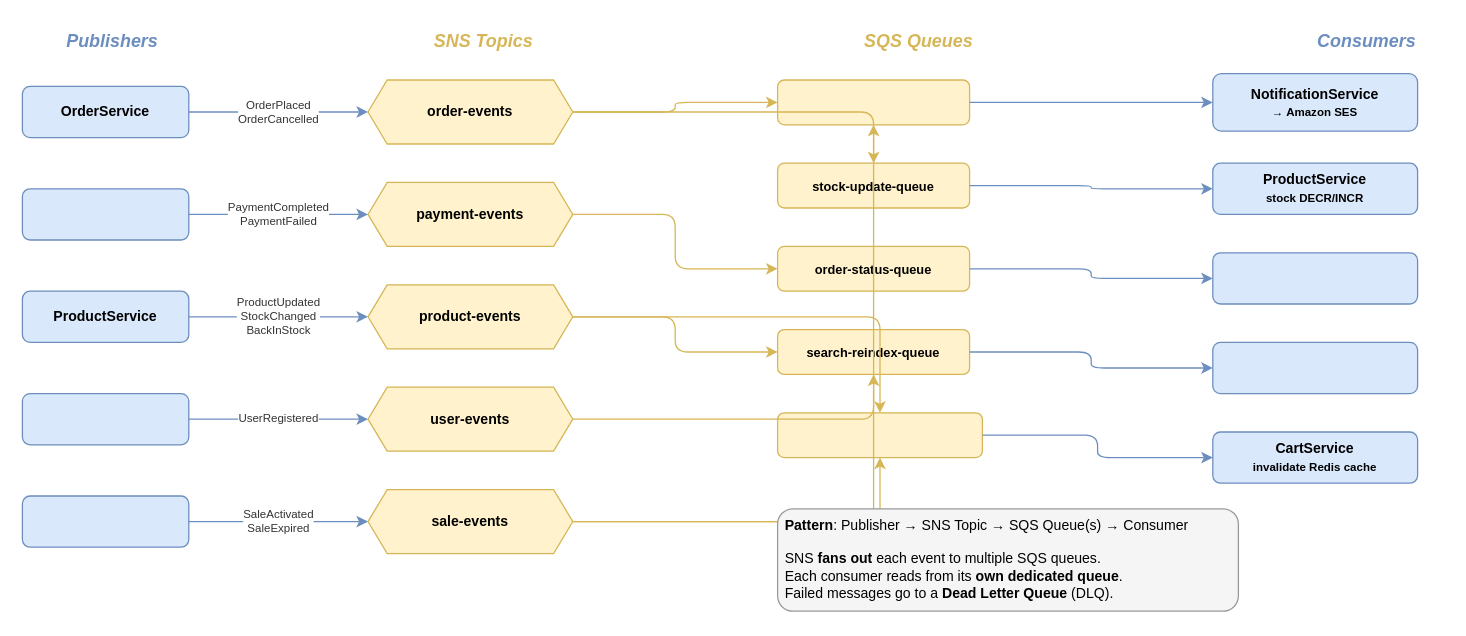
Some shapes in this 1466 by 636 pixel diagram are drawn without their labels. The shapes that lost their labels are listed below. From the top down, each one's centre as x and y in pixels, then its label:
point (873, 102): notification-queue
point (105, 214): PaymentService
point (1315, 278): OrderService status update
point (1315, 367): SearchService reindex OpenSearch
point (105, 418): UserService
point (879, 435): cache-invalidation-queue
point (105, 521): SaleService
